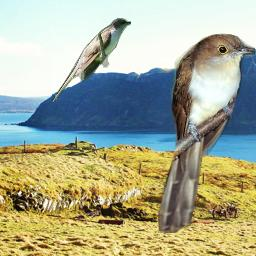Cuckoo: (158, 32, 255, 233), (51, 18, 131, 104)
